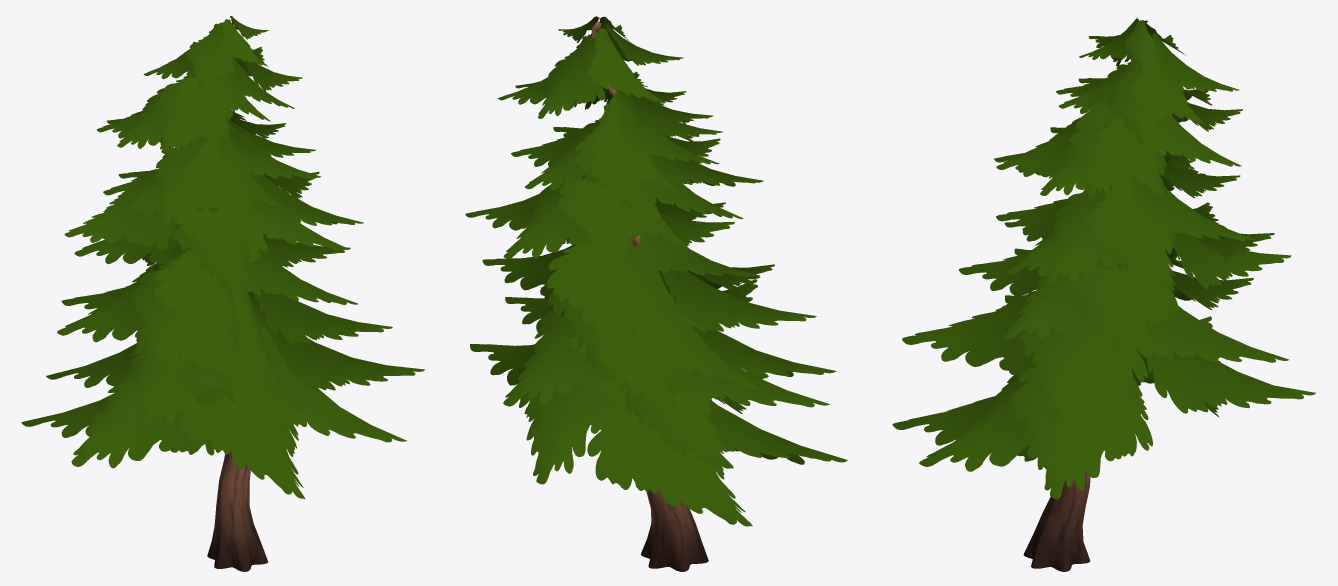
The model's file is Pine_5.gltf.
3 views of the same model, side by side, from view 1: azimuth 30°, elevation 25°; view 2: azimuth 150°, elevation 25°; view 3: azimuth 270°, elevation 25° (orthographic). The views are drawn at different scales.
Parts seen in each view (by area): view 1: Pine_5; view 2: Pine_5; view 3: Pine_5.
Part boxes in pixels (x1,y1,x2,y2): Pine_5: [21, 16, 424, 571]; Pine_5: [465, 16, 847, 571]; Pine_5: [892, 17, 1315, 571].
Size of the model in its own units: 6.42 by 8.72 by 6.22.
2 materials, 2 textured.
